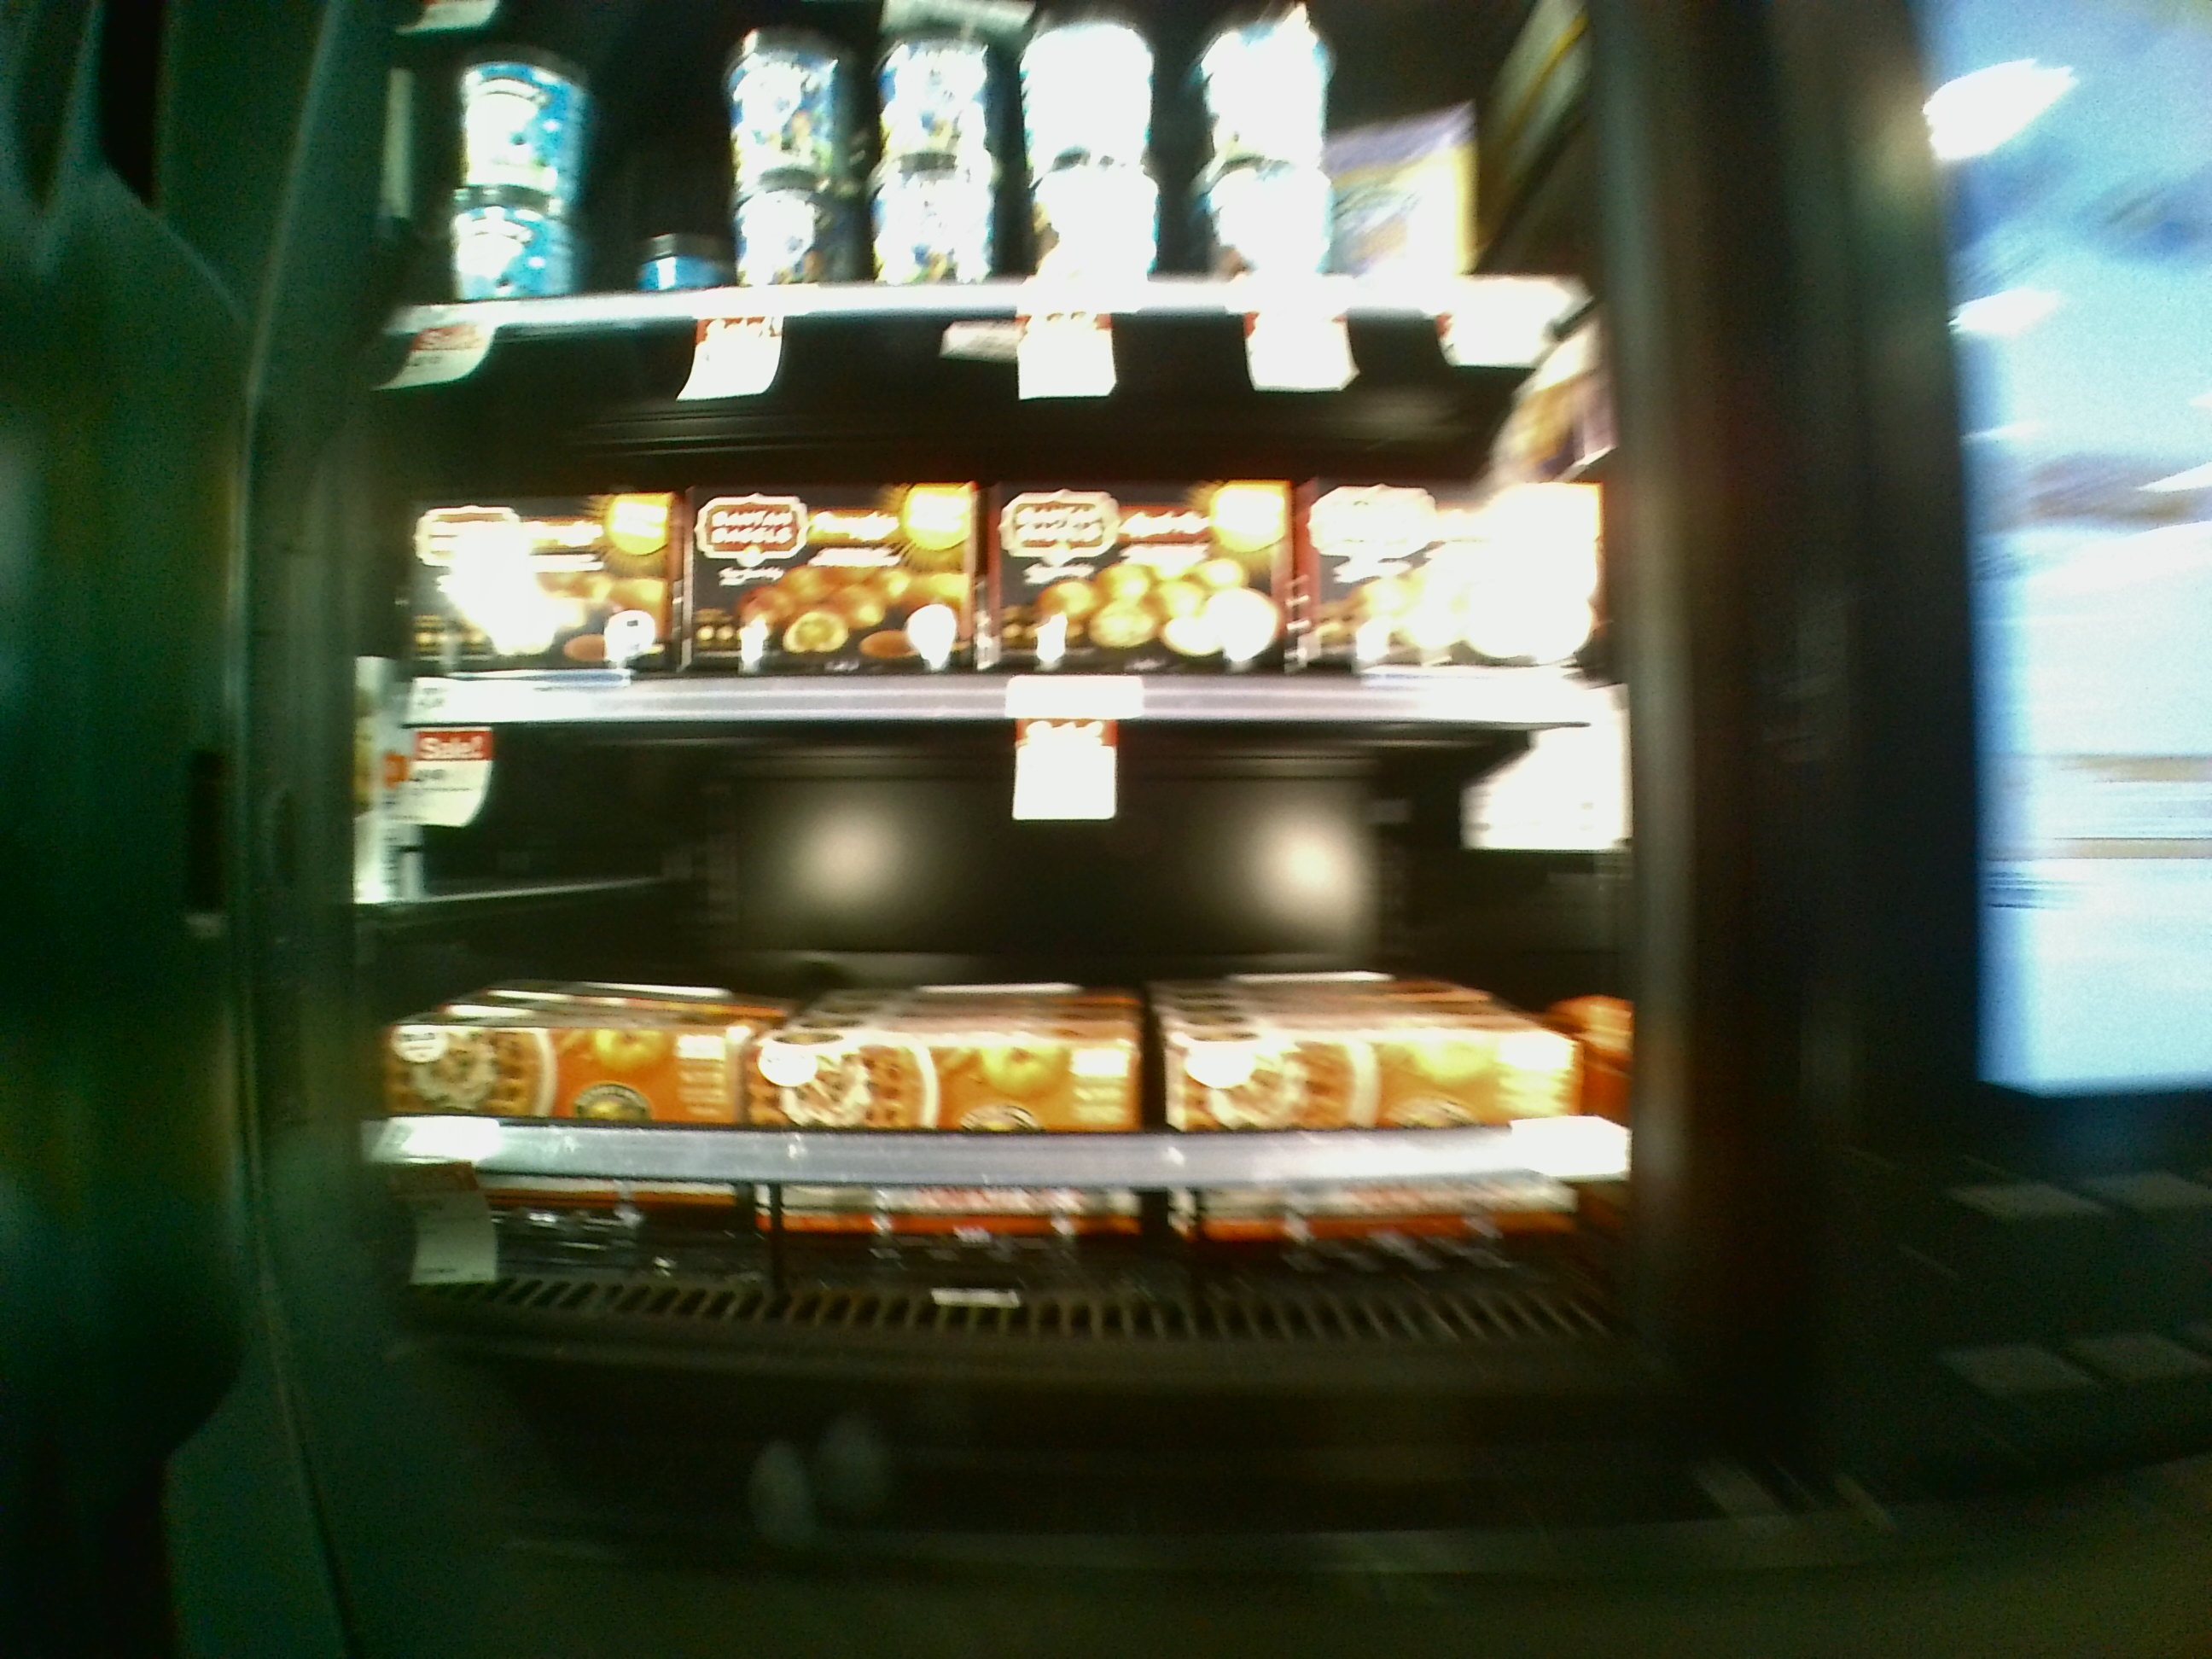shelf: (333, 688, 1651, 1356), (340, 315, 1613, 708)
